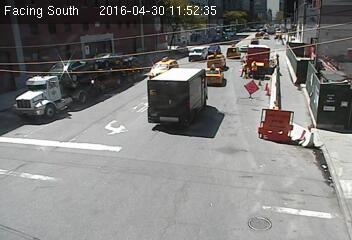neg: (296, 75, 317, 103), (211, 107, 231, 134), (132, 100, 152, 126)
pos: (236, 58, 251, 77), (246, 59, 260, 78)
